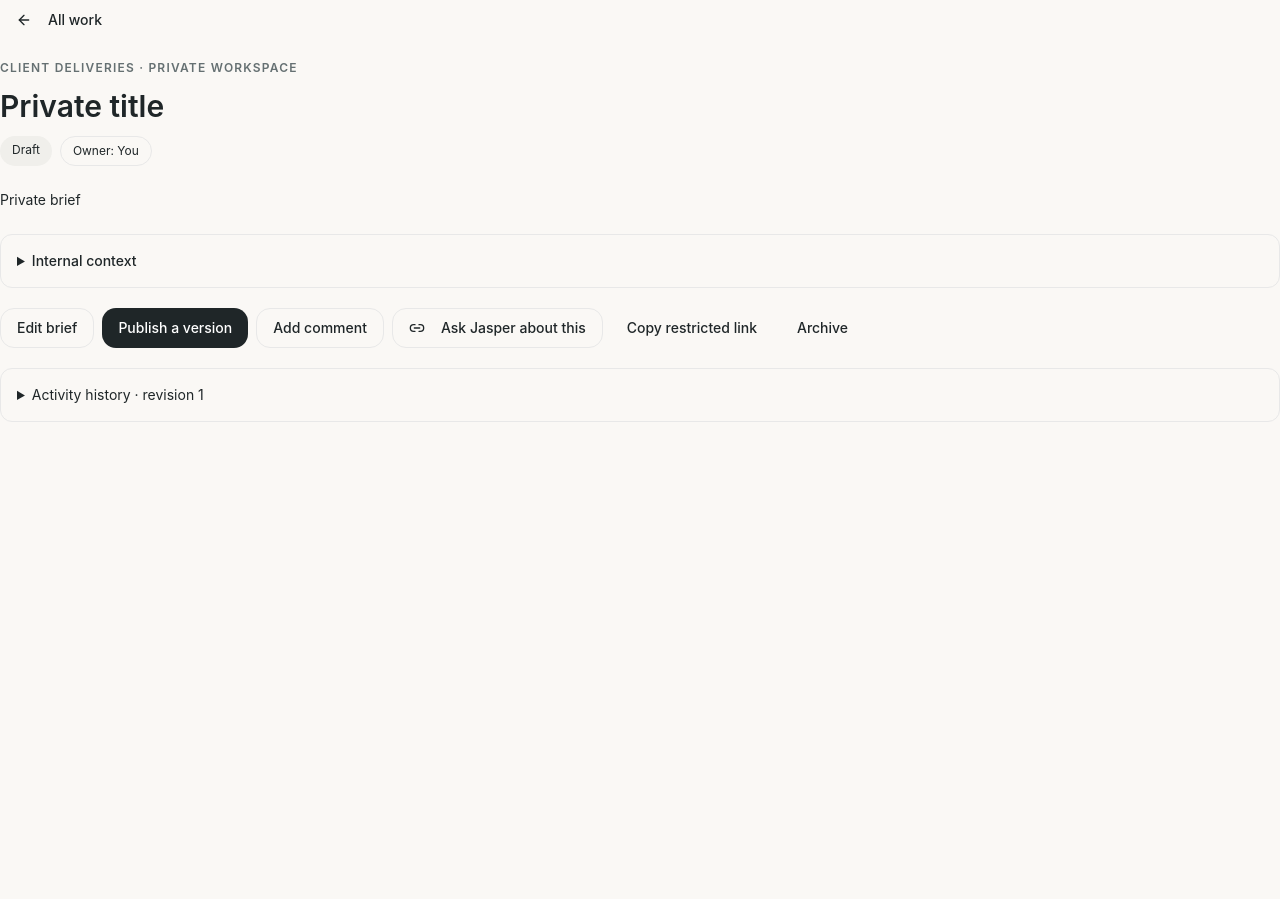
Test: workspace permission-sensitive drafts › removes private editing and meeting context on successful member-to-client downgrade
This screenshot has width=1280, height=899.
Later steps or results of the test are not shown.
Click the button "Edit brief" at [47, 328], box [0,308,94,348]
(page scrolled)
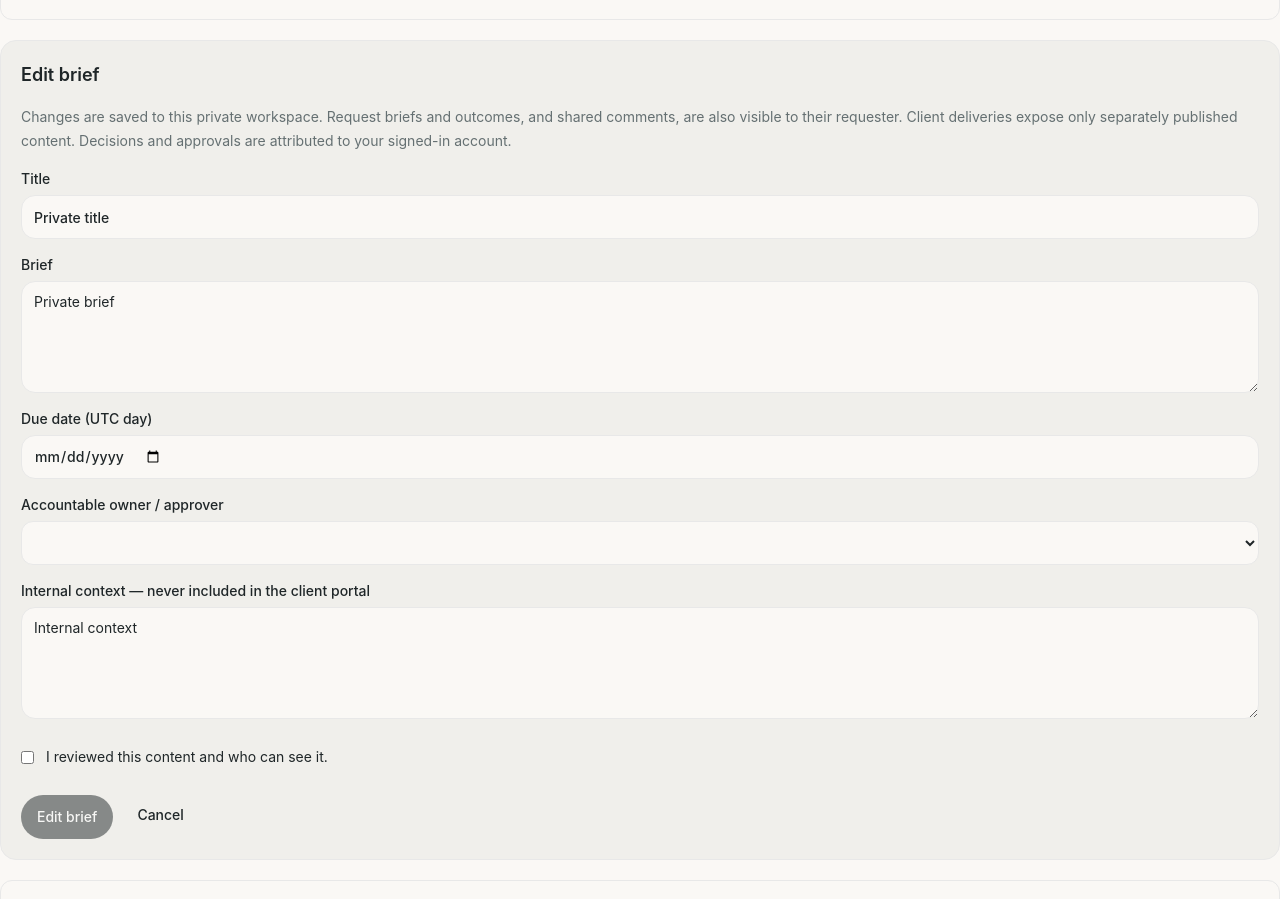
Expected: the form is shown
